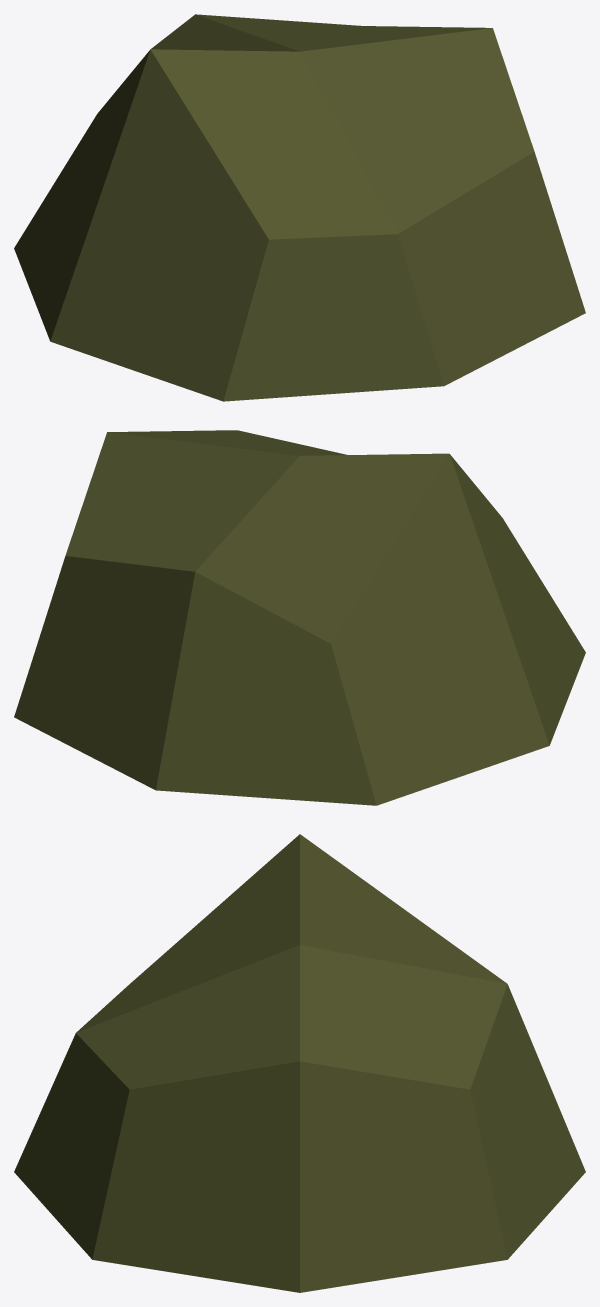
3 views of the same model, one above another, from view 1: azimuth 30°, elevation 25°; view 2: azimuth 150°, elevation 25°; view 3: azimuth 270°, elevation 25° (orthographic).
Parts seen in each view (by area): view 1: Cube.008; view 2: Cube.008; view 3: Cube.008.
Part boxes in pixels (box(x1,y1,x2,y2)): Cube.008: box(14, 14, 585, 401); Cube.008: box(14, 430, 585, 805); Cube.008: box(14, 834, 585, 1292).
Bounding box in the file's own units: 2.87 × 1.47 × 2.87.
